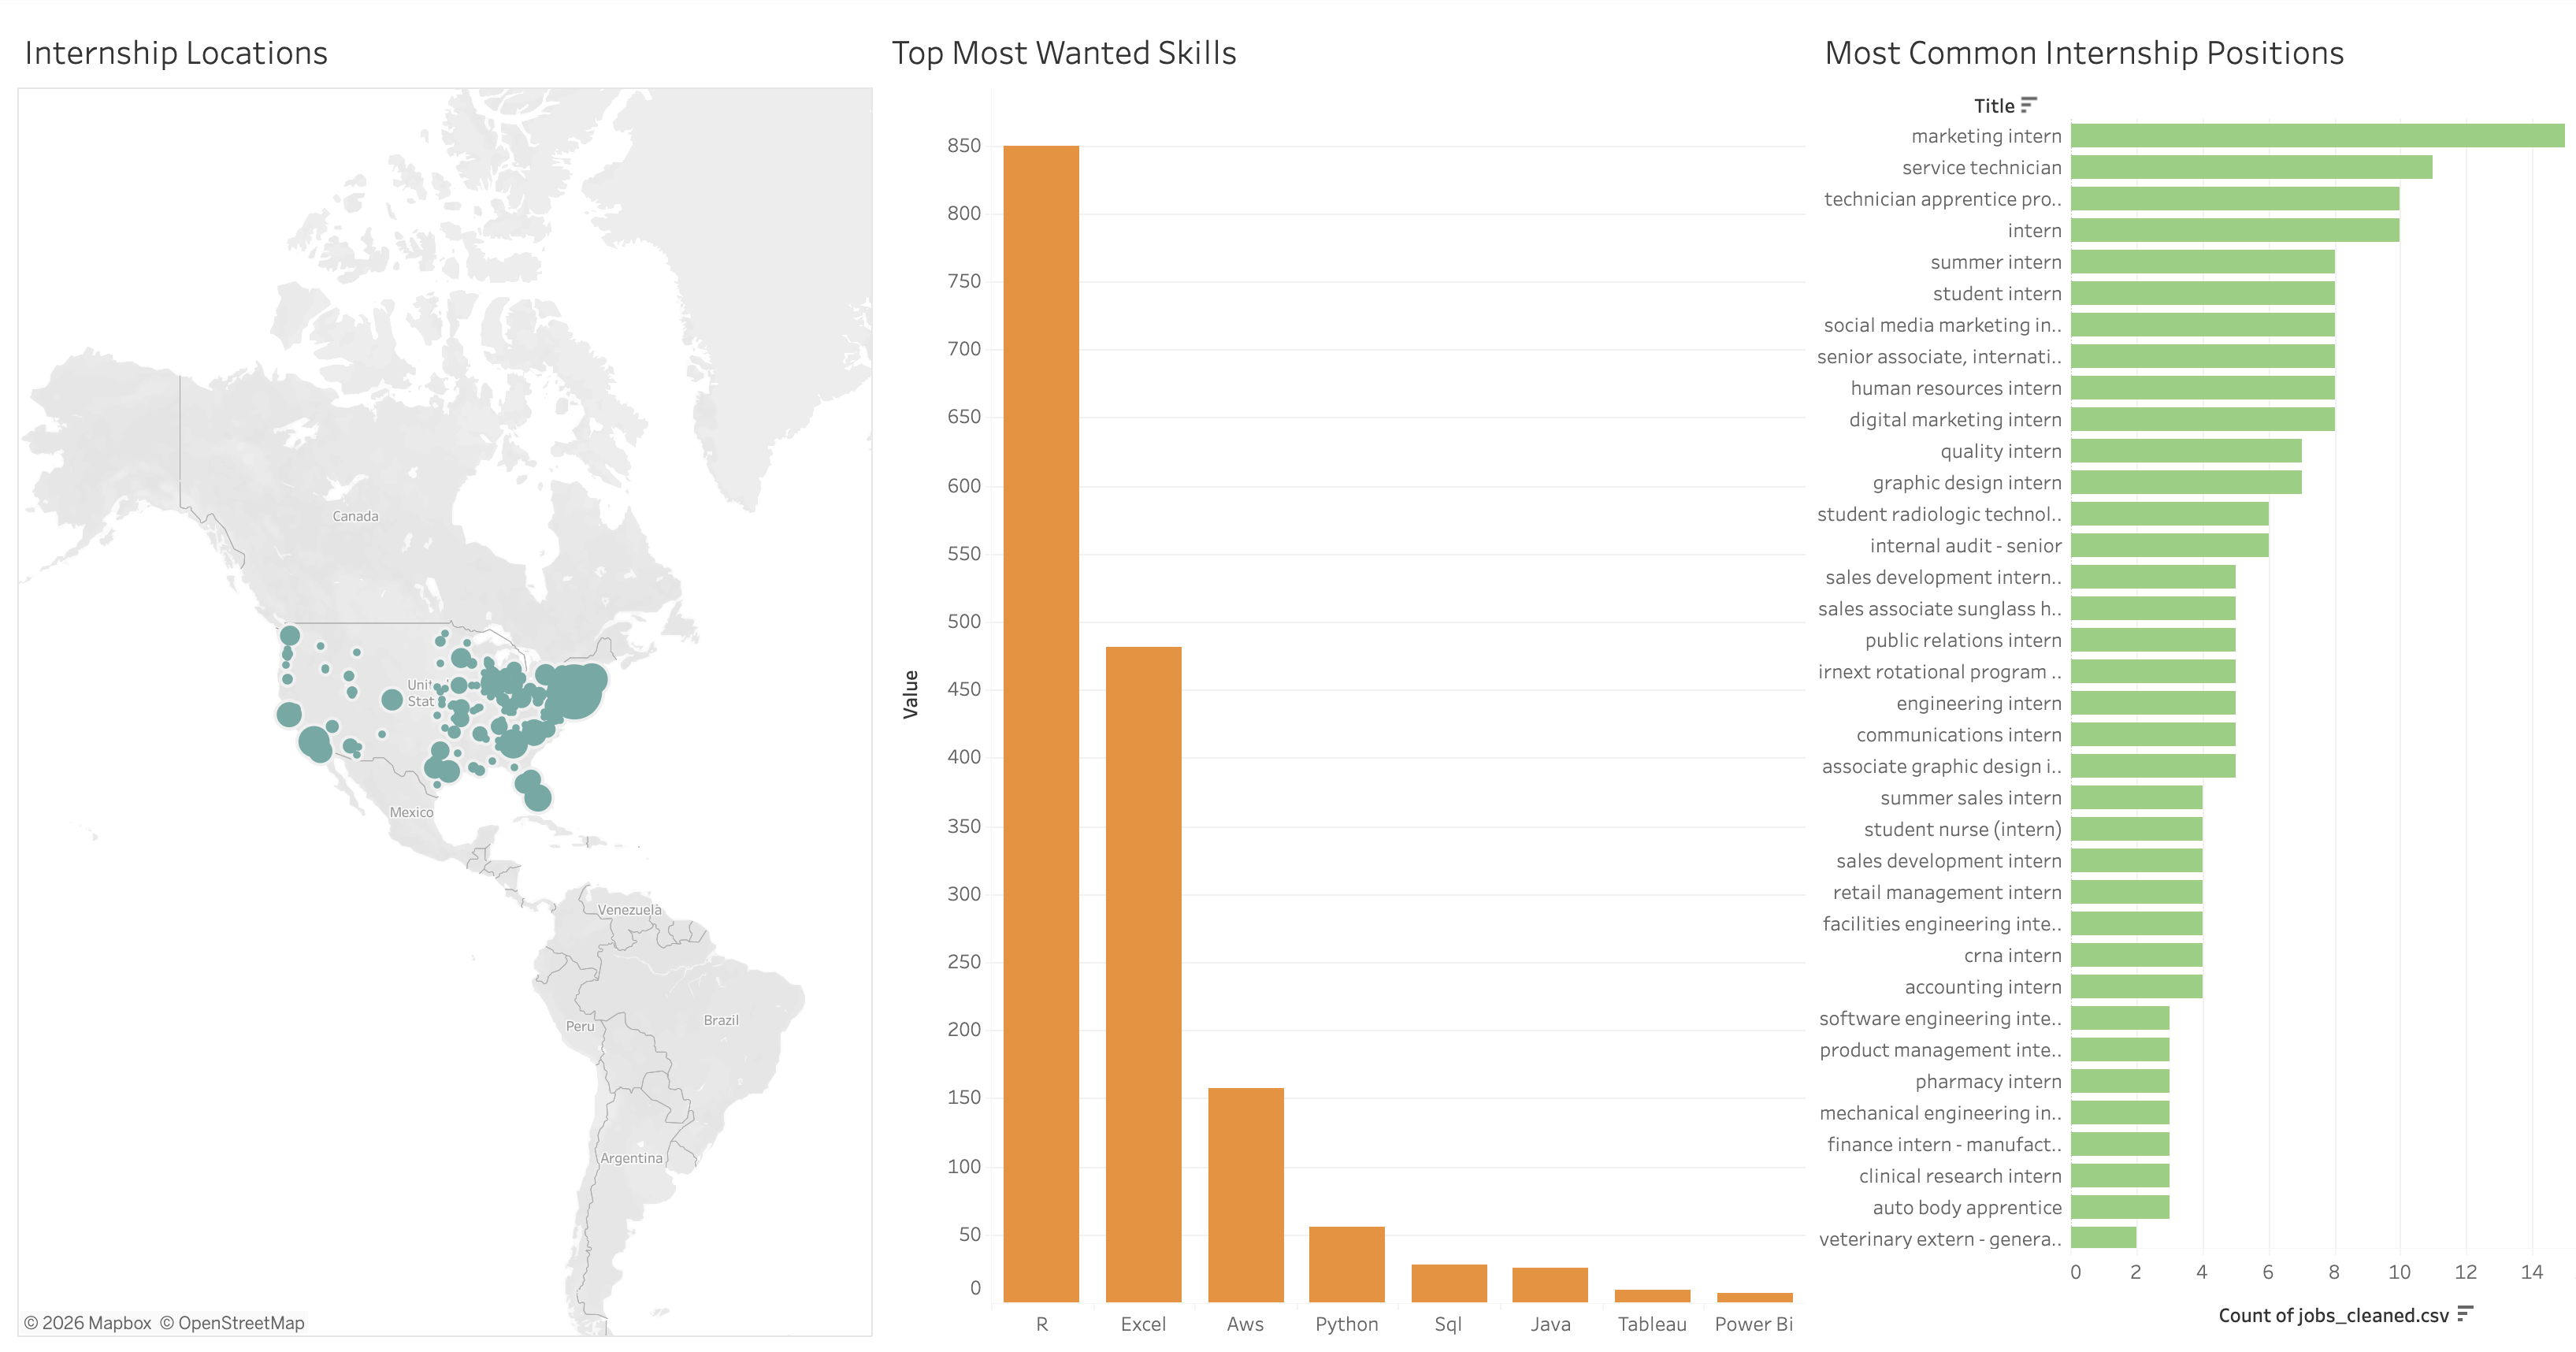

This screenshot's page, from the dashboard's own definition file:
{"tool":"tableau","page":{"name":"Dashboard 1","canvas":[1000,1000],"units":"permille","ordinal":0},"visuals":[{"type":"worksheet","title":"Sheet 2","mark":"Automatic","box":[6,9.4,327,981.2]},{"type":"worksheet","title":"Sheet 1","mark":"Automatic","box":[333,9.4,351.4,981.2]},{"type":"worksheet","title":"Sheet 3","mark":"Automatic","rows":["title"],"cols":["jobs_cleaned.csv_3DCE3BB3BDB347799ACB1E44CEB4D21D"],"box":[684.4,9.4,309.6,981.2]}]}

Visuals, with their boxes on the dashboard's canvas, which has no fixed pixel size, in thousandths of its width and height (x1, y1, x2, y2). These are canvas units, not pixel positions in the 2576x1352 screenshot, which may show the page scaled, cropped or inside an application window:
"Sheet 2" worksheet: (x1=6, y1=9, x2=333, y2=991)
"Sheet 1" worksheet: (x1=333, y1=9, x2=684, y2=991)
"Sheet 3" worksheet: (x1=684, y1=9, x2=994, y2=991)
